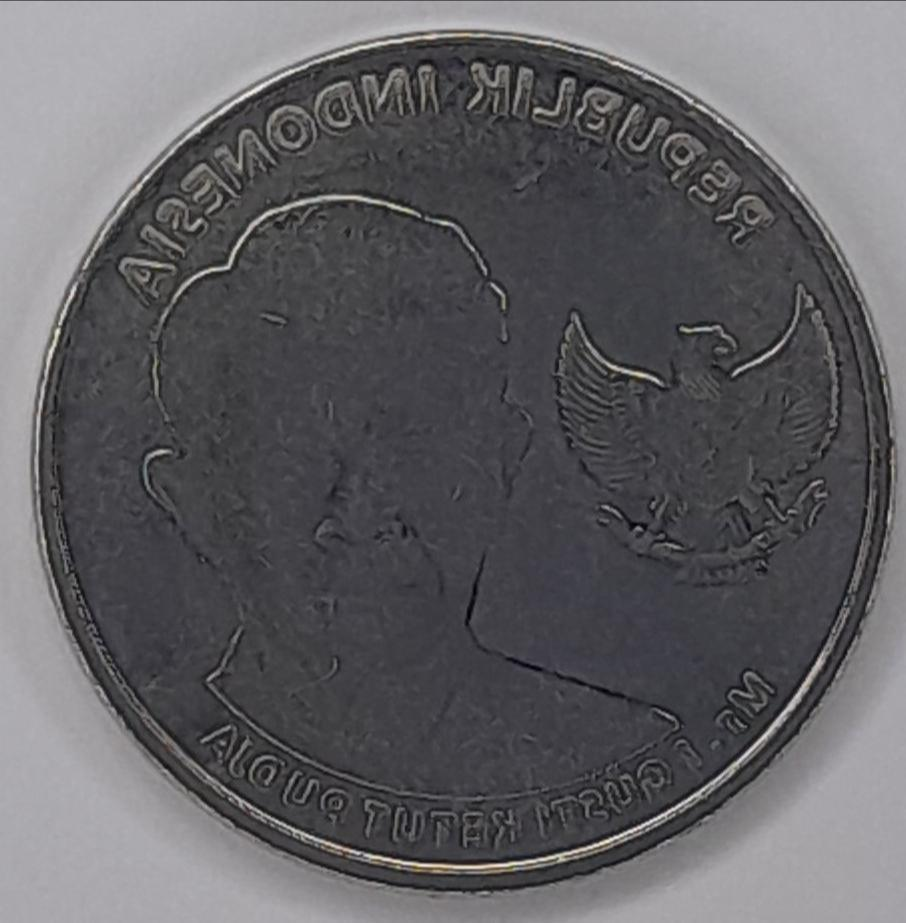coin_1000_e2016: (15, 18, 894, 923)
